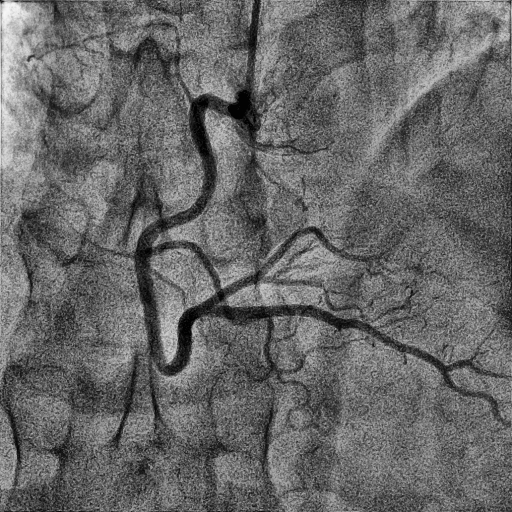pborca: (206, 226, 367, 306)
pda: (207, 303, 508, 427)
rca: (134, 94, 246, 377)
